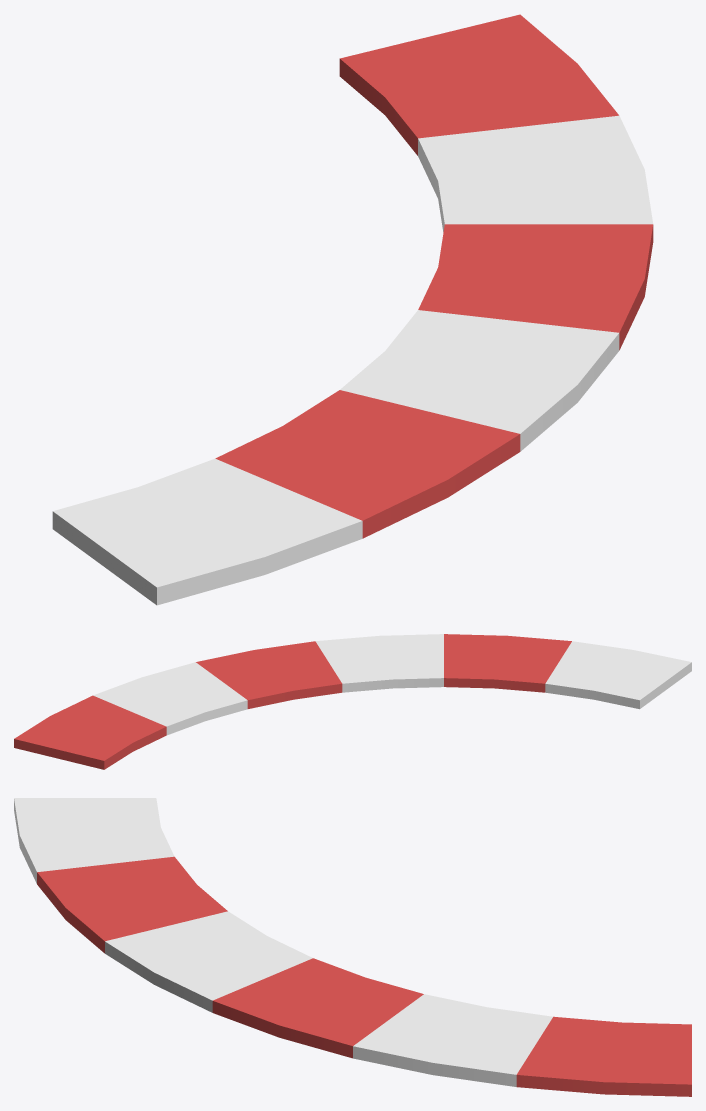
The model's file is roadCornerLargeBorderInner.obj.
3 views of the same model, one above another, from view 1: azimuth 30°, elevation 25°; view 2: azimuth 150°, elevation 25°; view 3: azimuth 270°, elevation 25° (orthographic). The views are drawn at different scales.
Parts seen in each view (by area): view 1: roadCornerLargeBorderInner; view 2: roadCornerLargeBorderInner; view 3: roadCornerLargeBorderInner.
Part boxes in pixels (x1=…): roadCornerLargeBorderInner: x1=52, y1=14, x2=653, y2=605; roadCornerLargeBorderInner: x1=14, y1=634, x2=691, y2=769; roadCornerLargeBorderInner: x1=14, y1=798, x2=691, y2=1096.
Bounding box in the file's own units: 1 × 0.02 × 1.
